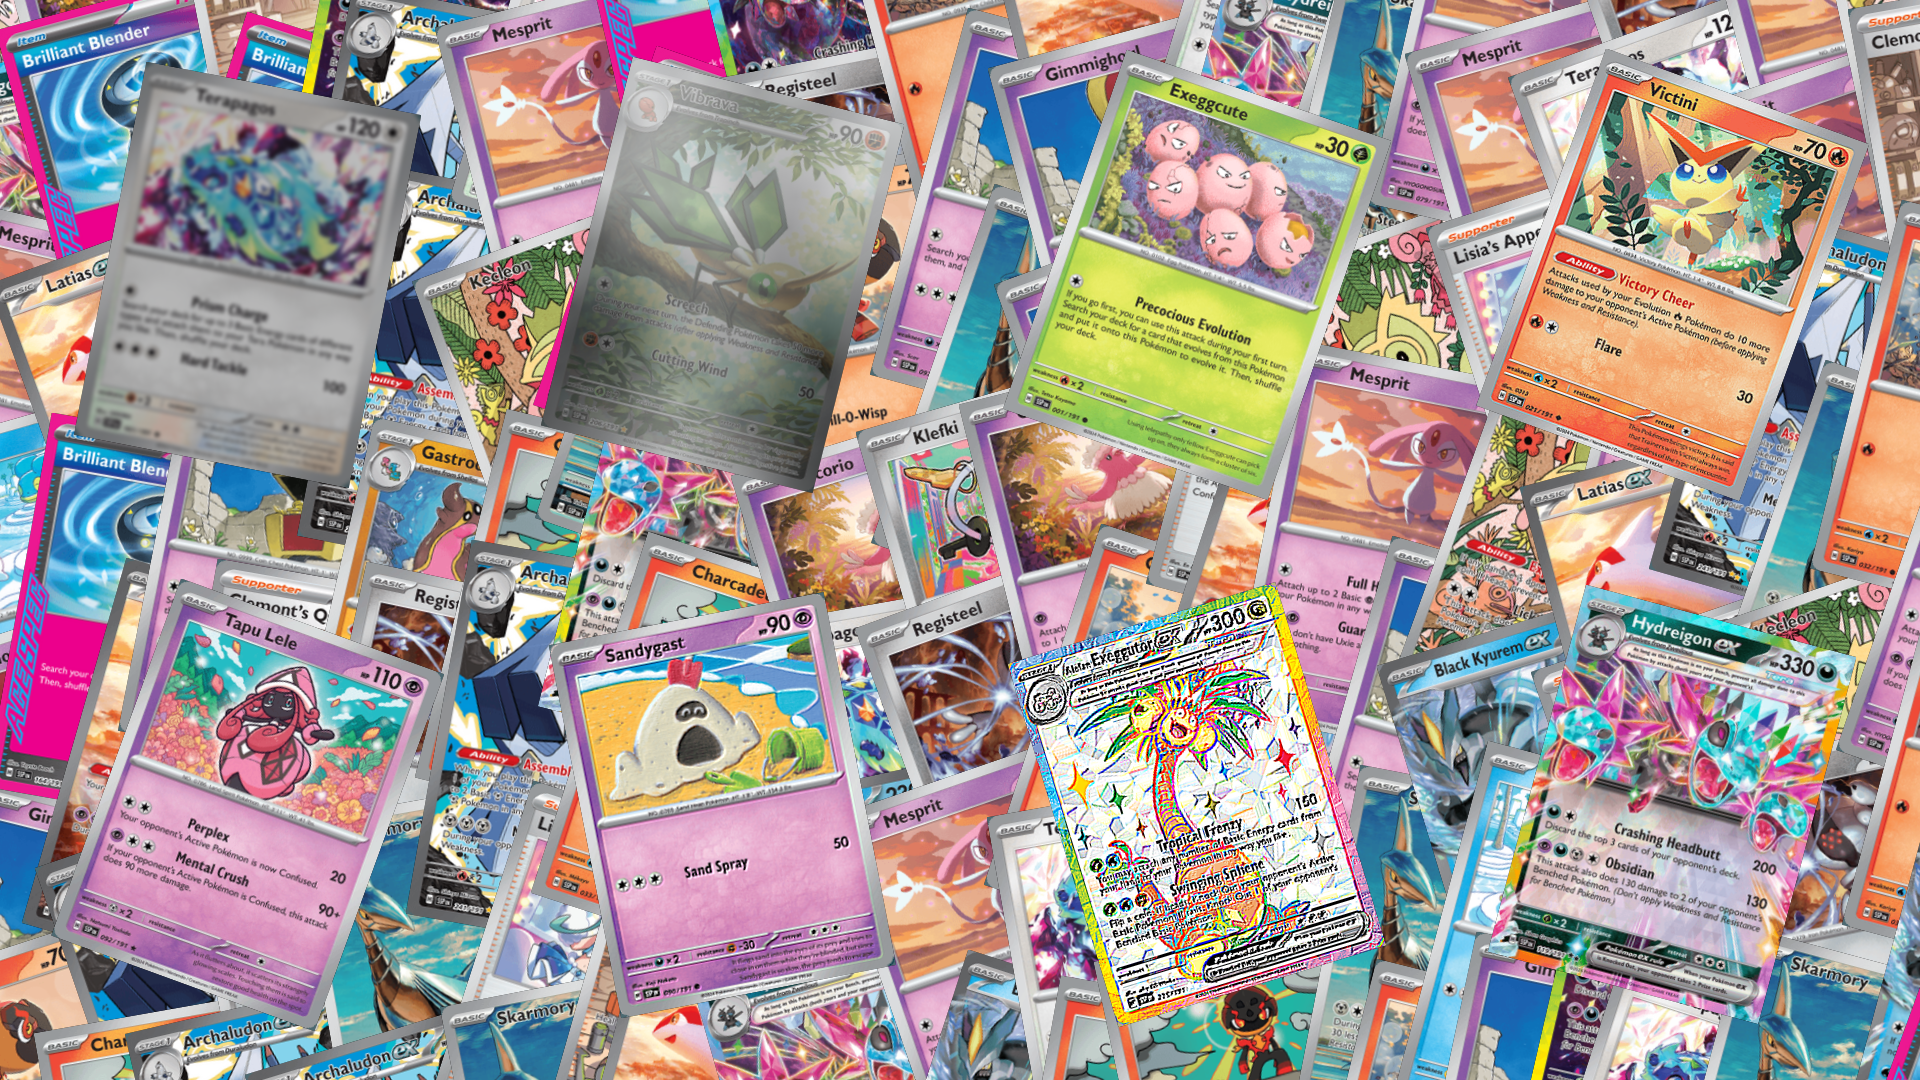Alolan_Exeggutor_ex: (1007, 582, 1386, 1027)
Exeggcute: (1002, 49, 1391, 500)
Hydreigon_ex: (1487, 584, 1855, 1025)
Sandygast: (549, 591, 895, 1018)
Tapu_Lele: (50, 578, 444, 1031)
Terapagos: (73, 61, 421, 488)
Vibrava: (541, 55, 905, 493)
Victini: (1476, 47, 1869, 501)
